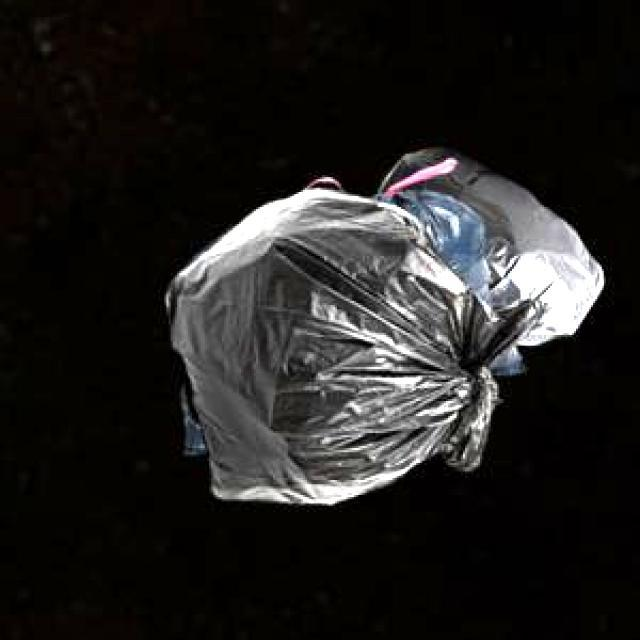Garbage_Bag: (165, 187, 543, 500), (163, 156, 522, 452), (377, 146, 600, 343)
